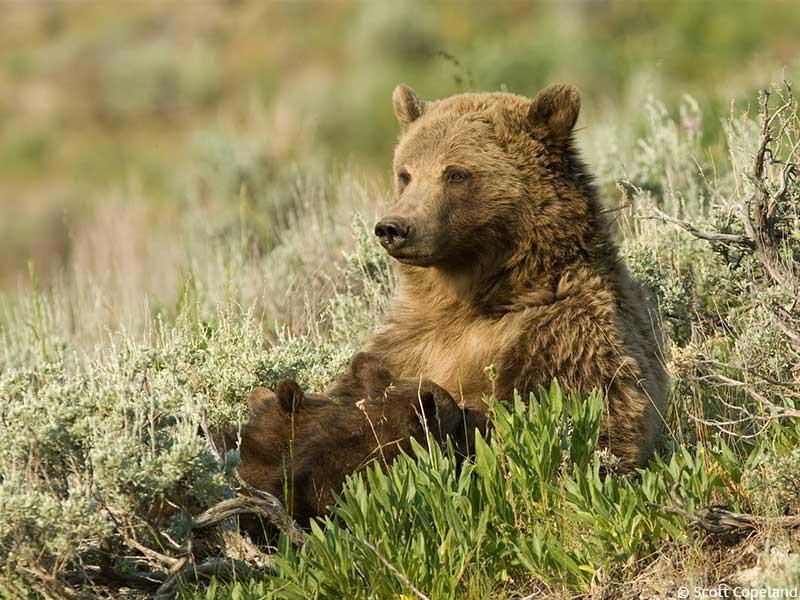bear: (370, 73, 590, 271)
